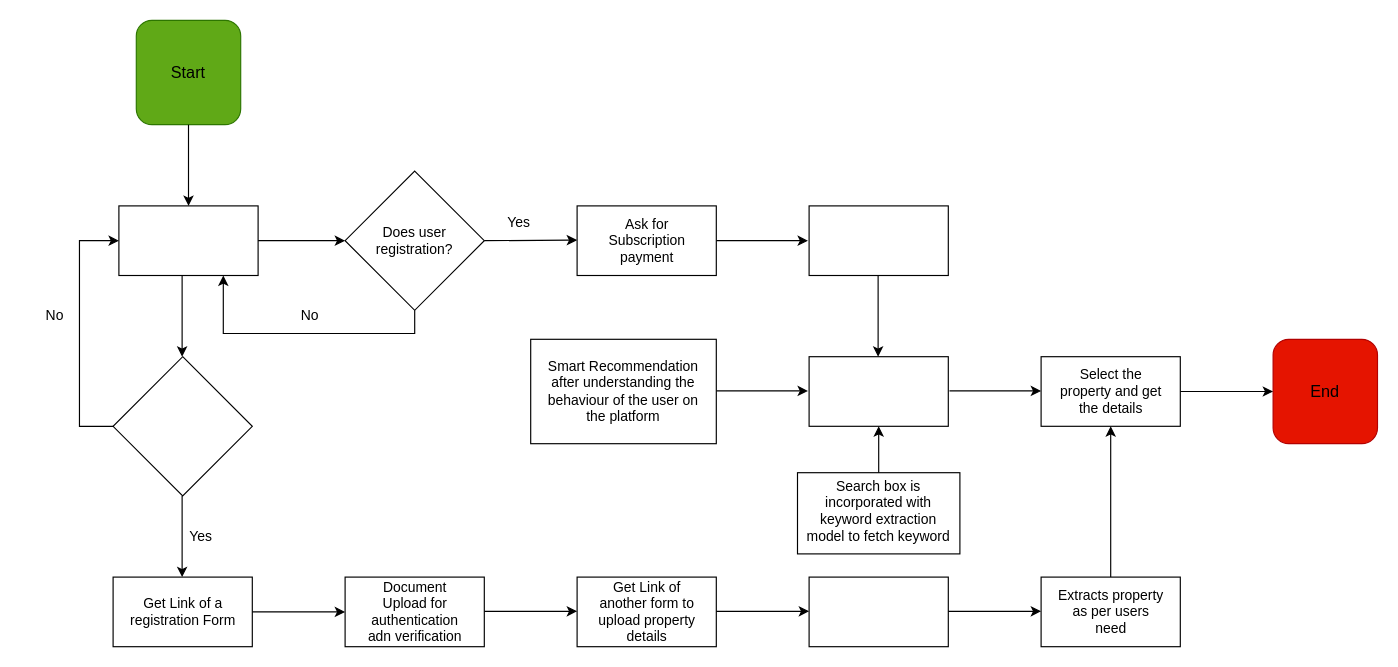
This 1398x667 diagram has some shape labels left out. The box of each missing label's shape, as (x1, y1, x2, y2) in pixels:
Applies Filter and Search for Property: (808, 356, 948, 426)
Lands in the Landing Page: (118, 205, 258, 276)
Property Owner: (112, 356, 252, 496)
Property Pictures and Videos gets stored in cloud: (808, 576, 948, 647)
Search for Property, goes to Explore Page: (808, 205, 948, 276)
